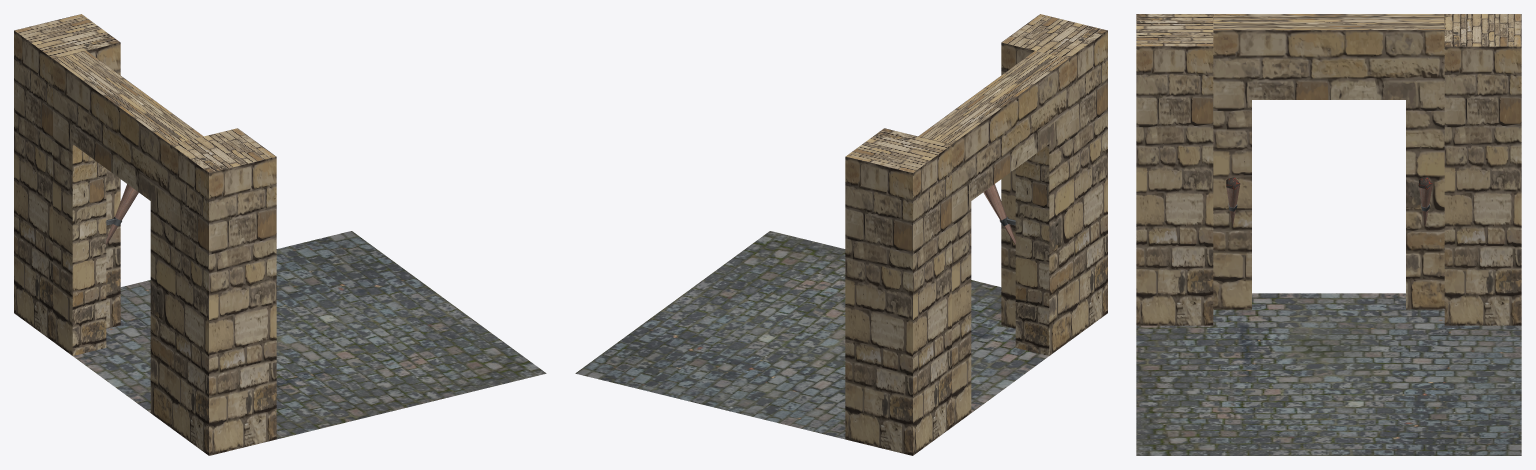
Rendered from 1-NESW-westDoor.fbx.
The picture shows the model from 3 angles, left to right: view 1: azimuth 30°, elevation 25°; view 2: azimuth 150°, elevation 25°; view 3: azimuth 270°, elevation 25°; orthographic projection.
Visible parts, largest first — view 1: Cube_1_3, Plane; view 2: Cube_1_3, Plane; view 3: Cube_1_3, Plane.
Part boxes in pixels (x1=…): Cube_1_3: x1=14, y1=14, x2=276, y2=455; Plane: x1=73, y1=231, x2=546, y2=439; Cube_1_3: x1=845, y1=14, x2=1107, y2=455; Plane: x1=575, y1=231, x2=1048, y2=439; Cube_1_3: x1=1136, y1=14, x2=1521, y2=325; Plane: x1=1136, y1=293, x2=1521, y2=455.
Size of the model in its own units: 10 by 8 by 10.
Materials: 6 (6 with a texture image).
